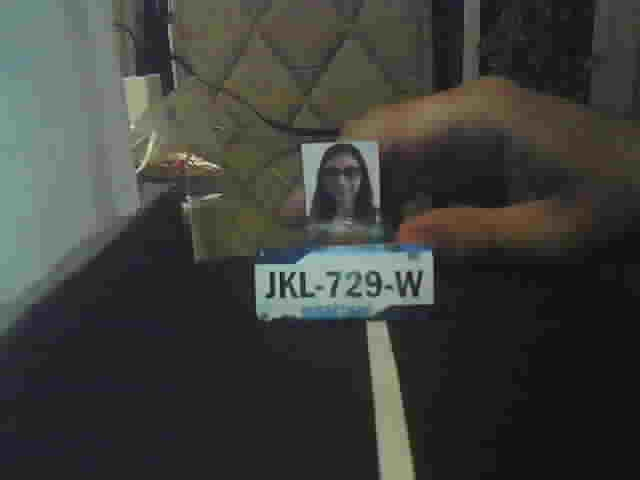PLACA: (252, 243, 437, 324)
ROSTRO: (306, 143, 381, 224)
